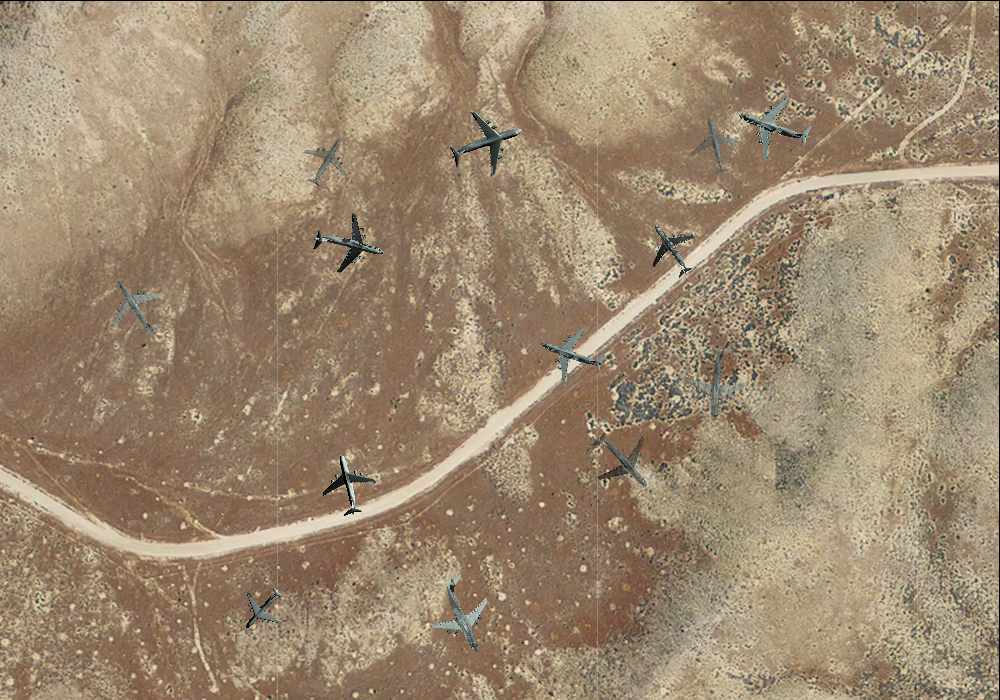plane: (413, 563, 512, 666), (573, 413, 669, 509), (439, 97, 533, 189), (728, 80, 821, 171), (93, 264, 178, 349), (305, 203, 391, 287), (530, 313, 613, 394), (631, 209, 710, 289), (679, 343, 756, 423), (311, 448, 383, 522), (291, 125, 361, 197), (228, 575, 296, 643), (684, 112, 748, 179)
